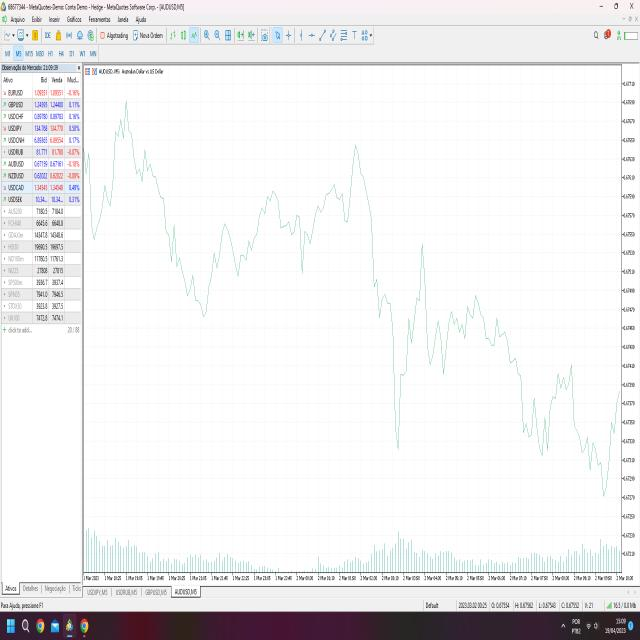fundo_duplo: (423, 305, 454, 392)
oco_inv: (276, 177, 322, 284)
